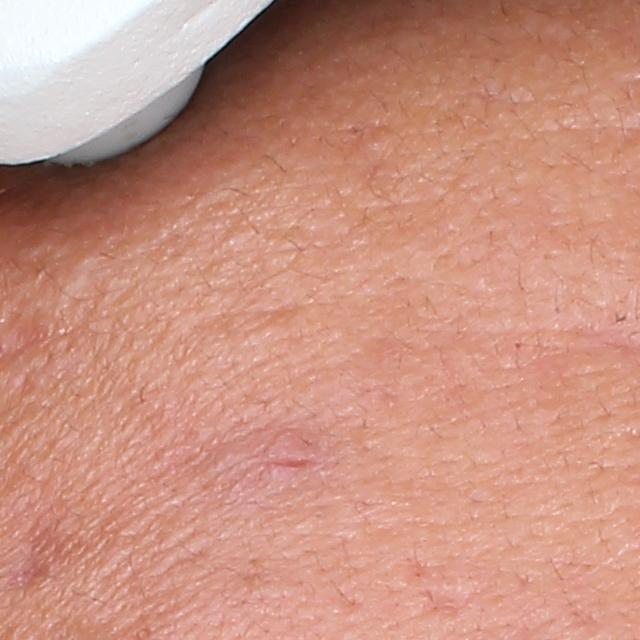atrophic_scar: (207, 411, 364, 514), (3, 519, 91, 605), (401, 556, 480, 623)
